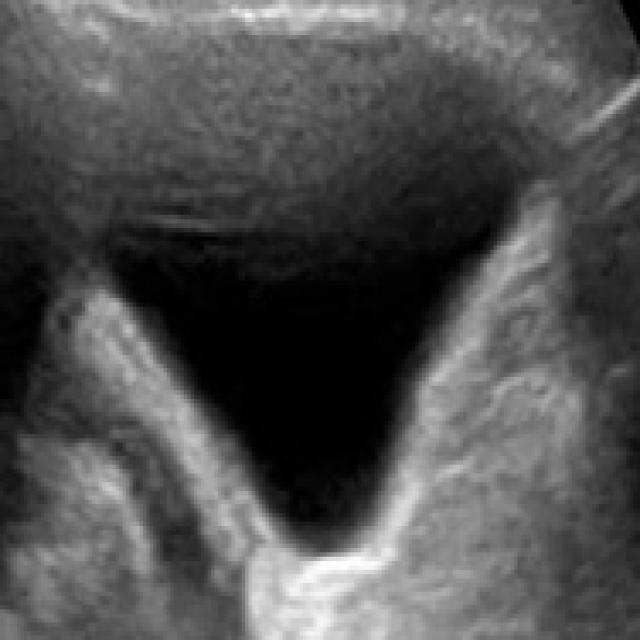bladder: (74, 17, 554, 596)
